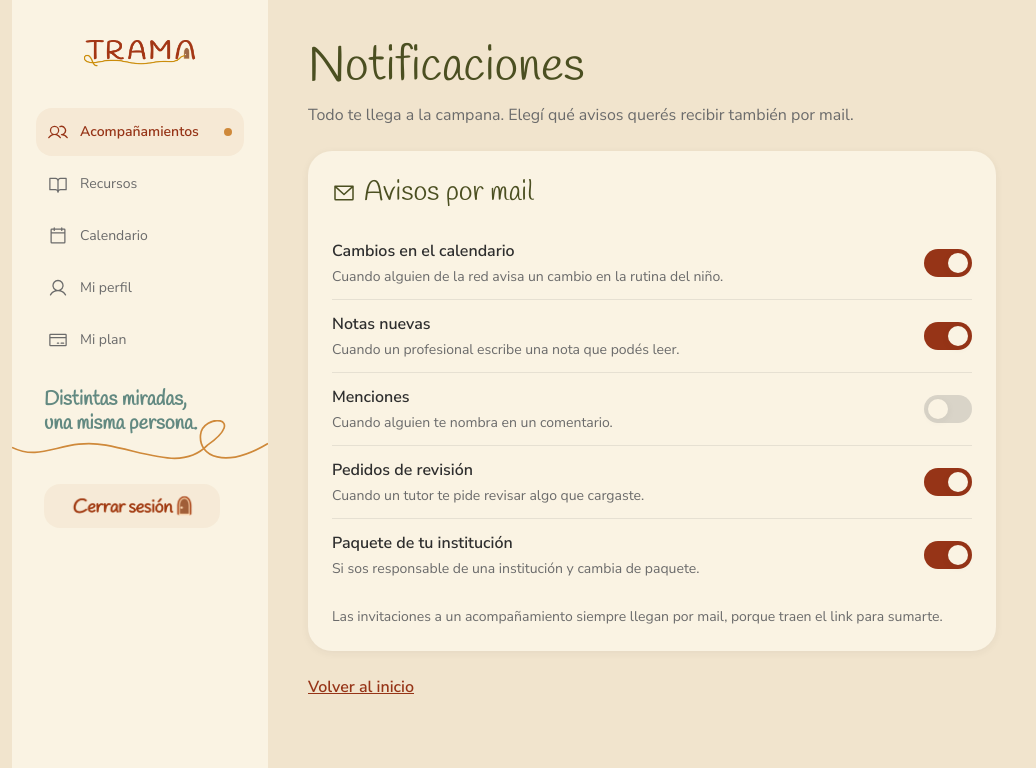
Test: 6.1: avisos por mail › si no se puede guardar, vuelve el interruptor como estaba y avisa
Click the switch labelled "Menciones Cuando alguien te nombra en un comentario.". click: (371, 397)
box: [332,385,972,433]
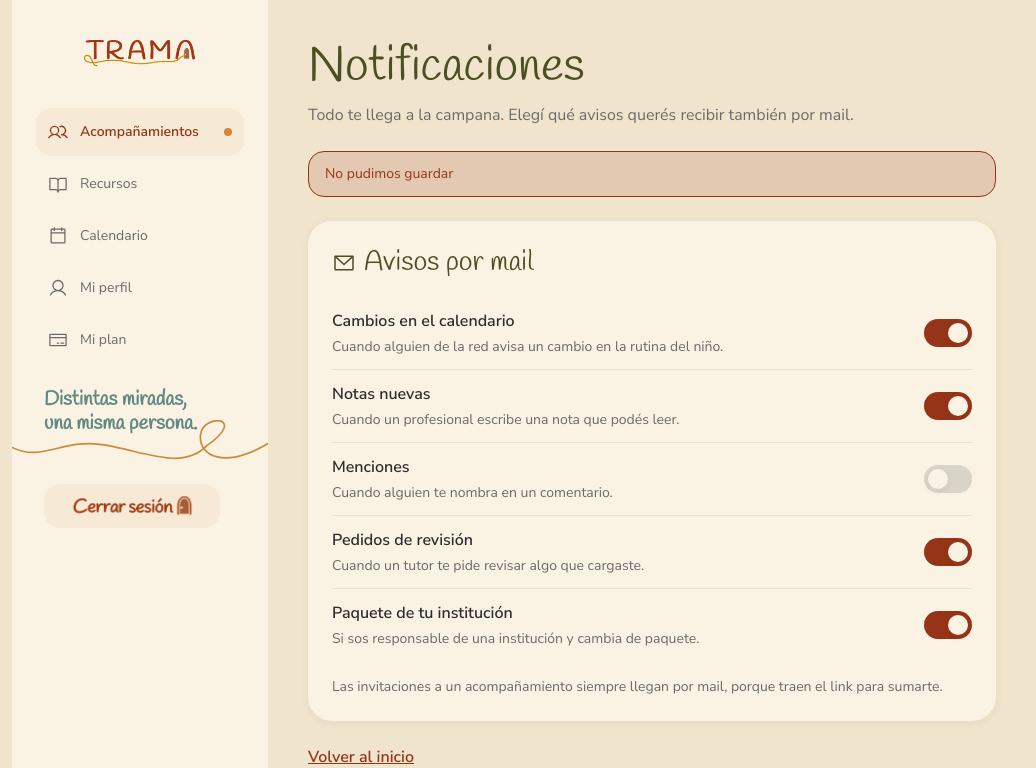
Expected: the switch labelled "Menciones Cuando alguien te nombra en un comentario." is not checked, [332,455,972,503]
Expected: the message reads "No pudimos guardar", [325,164,453,183]
